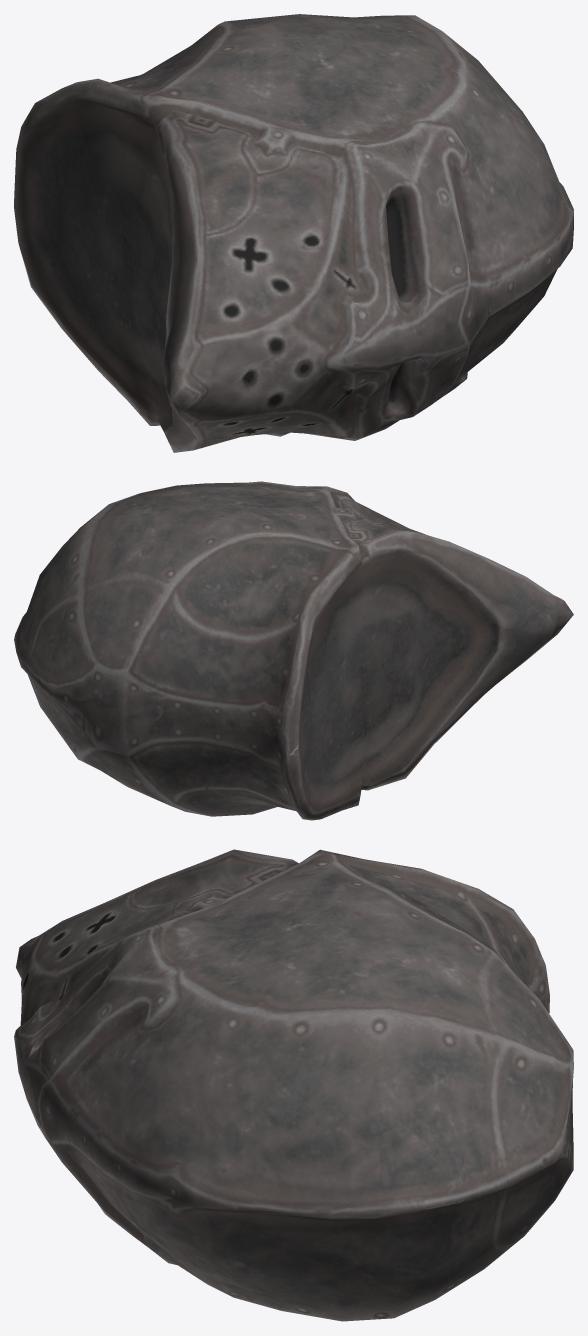
The model's file is F_PlateArmorHelm.fbx.
3 renders of one model, top to bottom at view 1: azimuth 30°, elevation 25°; view 2: azimuth 150°, elevation 25°; view 3: azimuth 270°, elevation 25°, orthographic. The views are drawn at different scales.
Parts seen in each view (by area): view 1: Helmet; view 2: Helmet; view 3: Helmet.
Boxes of the visible parts, x1,y1,x2,y2 form: Helmet: (14, 14, 573, 452); Helmet: (14, 481, 573, 820); Helmet: (14, 849, 573, 1321).
Bounding box in the file's own units: 0.1776 × 0.1185 × 0.1623.
